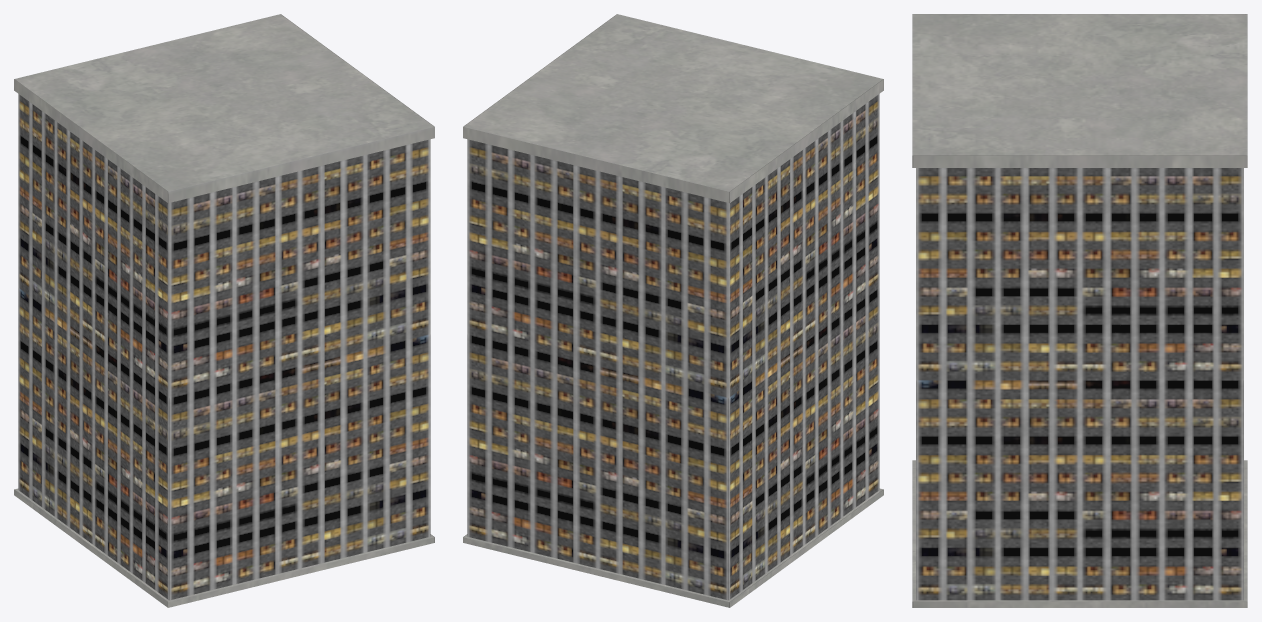
The model's file is building_01.3.glb.
The picture shows the model from 3 angles, left to right: view 1: azimuth 30°, elevation 25°; view 2: azimuth 150°, elevation 25°; view 3: azimuth 270°, elevation 25°; orthographic projection. The views are drawn at different scales.
Visible parts, largest first — view 1: building_01.3; view 2: building_01.3; view 3: building_01.3.
Part boxes in pixels (x1,y1,x2,y2): building_01.3: [14, 14, 434, 607]; building_01.3: [463, 14, 883, 607]; building_01.3: [912, 14, 1247, 607].
Bounding box in the file's own units: 49 × 73 × 49.
Materials: 1 (1 with a texture image).
